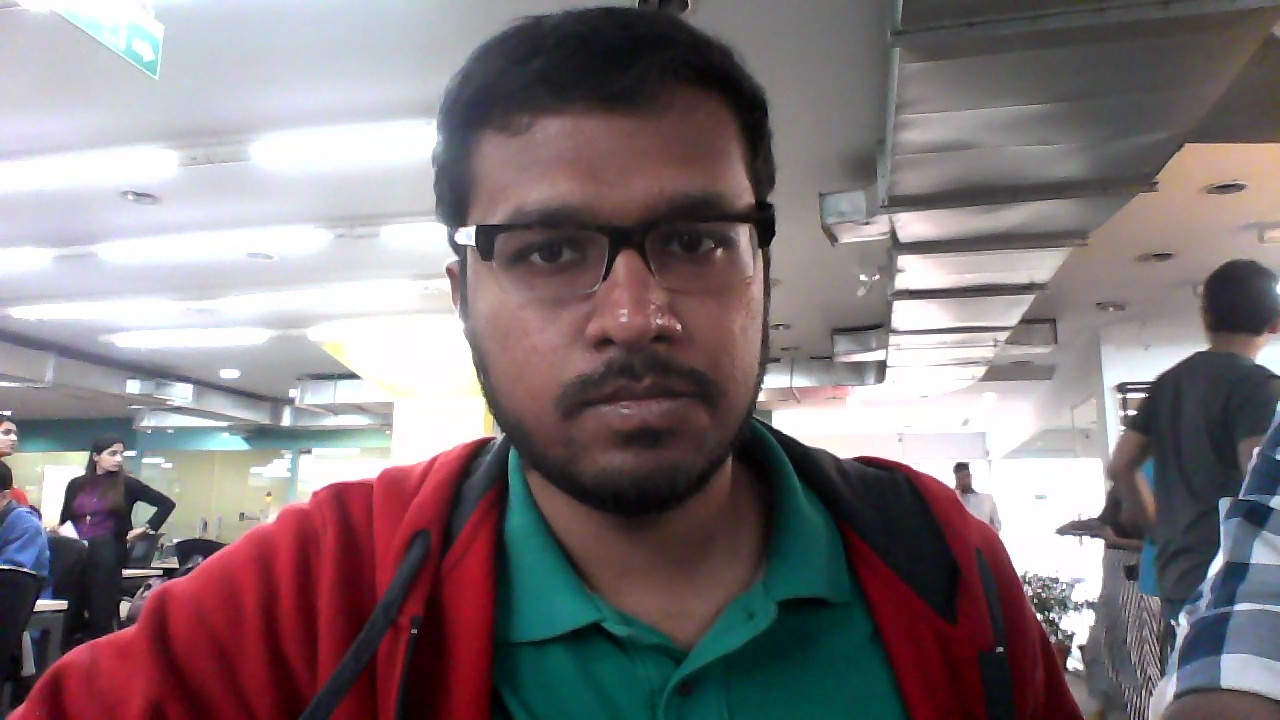open: (426, 9, 789, 516)
